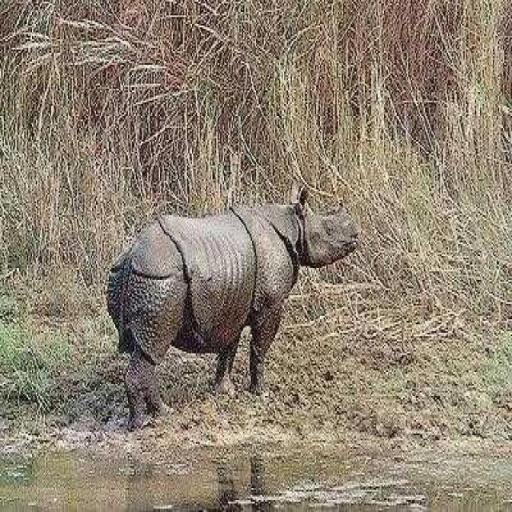Rhino: (105, 181, 361, 429)
